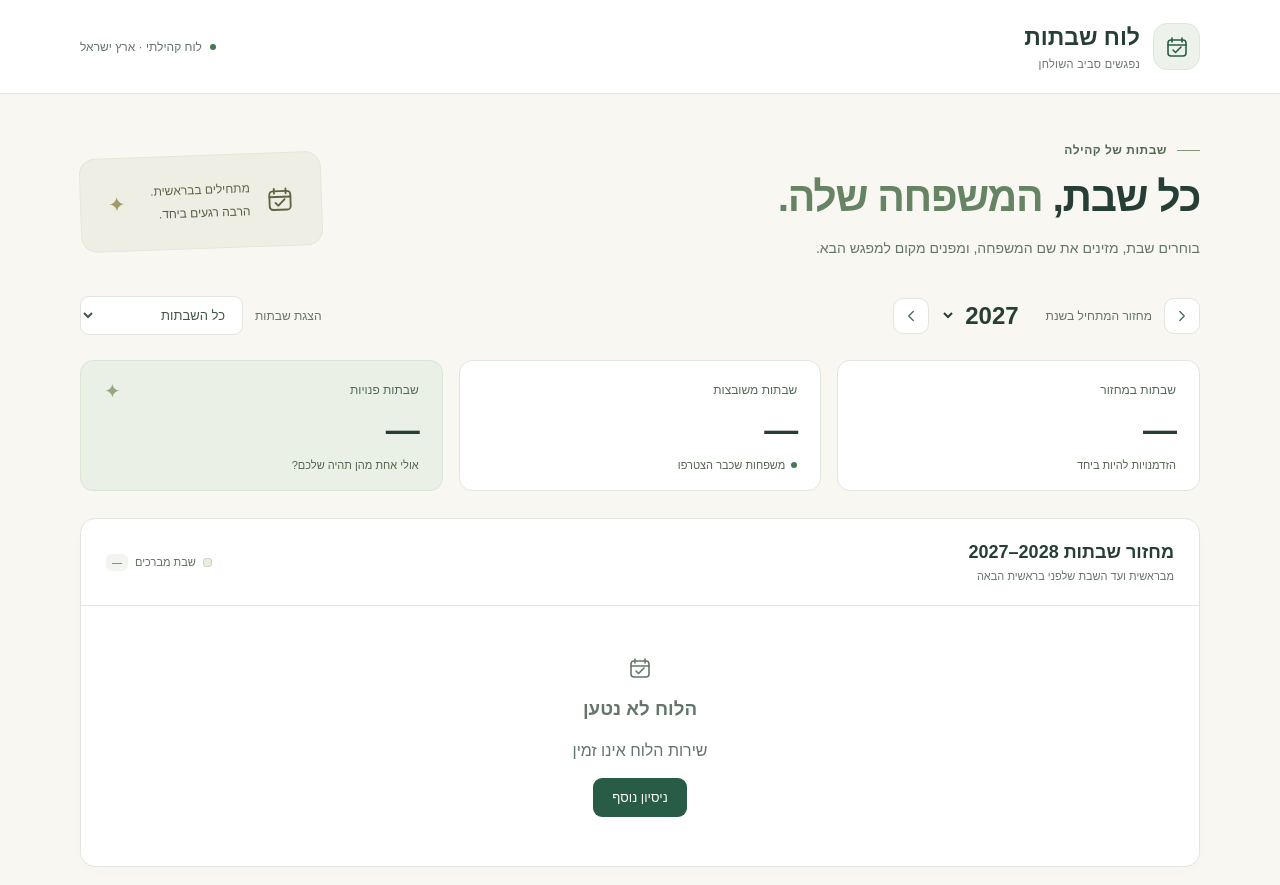
Scenario: calendar › shows explicit upstream error and supports retry
The width and height of the screenshot is (1280, 885).
Check: the message reads "שירות הלוח אינו זמין", box [572, 742, 708, 759]
Click the button "ניסיון נוסף" at point(640, 798), box [593, 778, 687, 817]
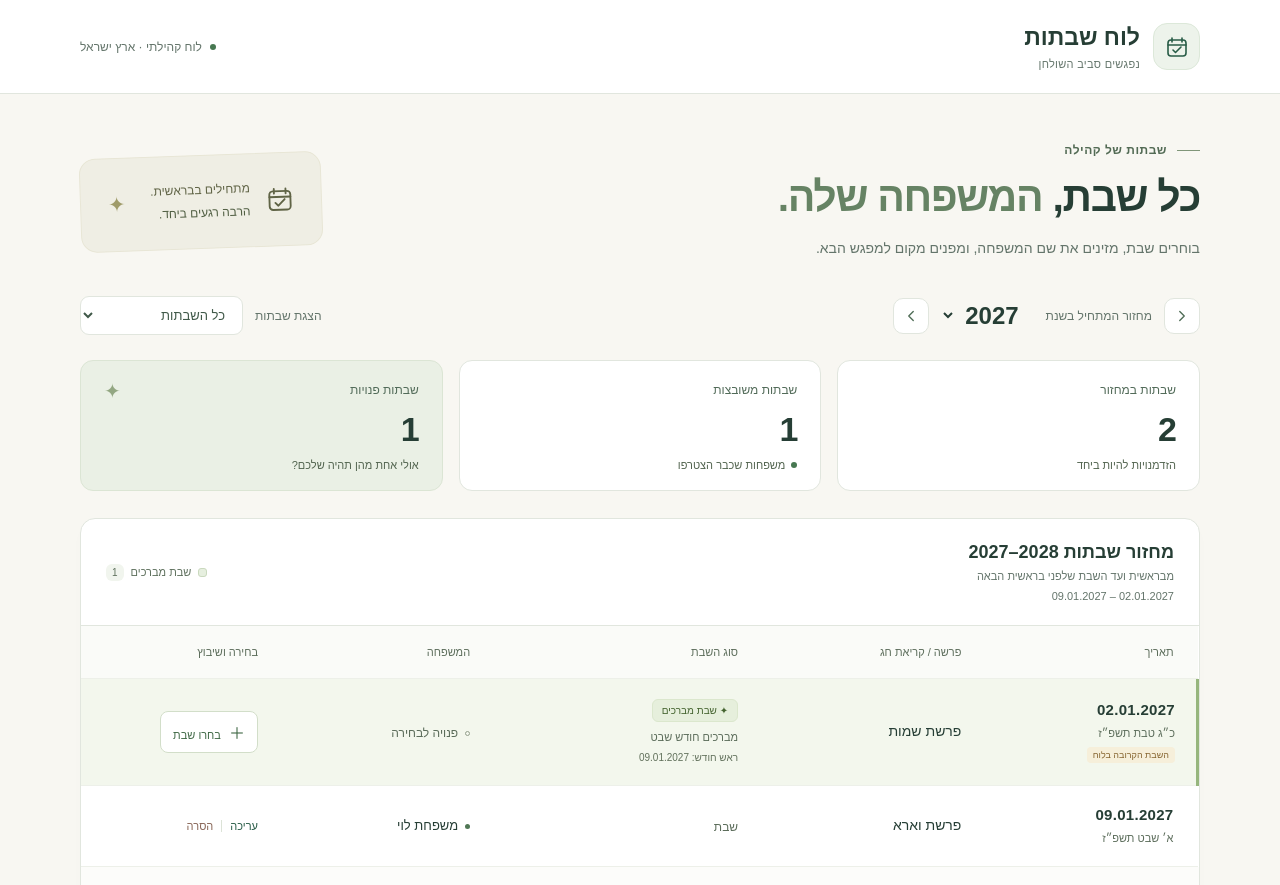
Check: the text "פרשת שמות" is shown, box [888, 723, 961, 739]
